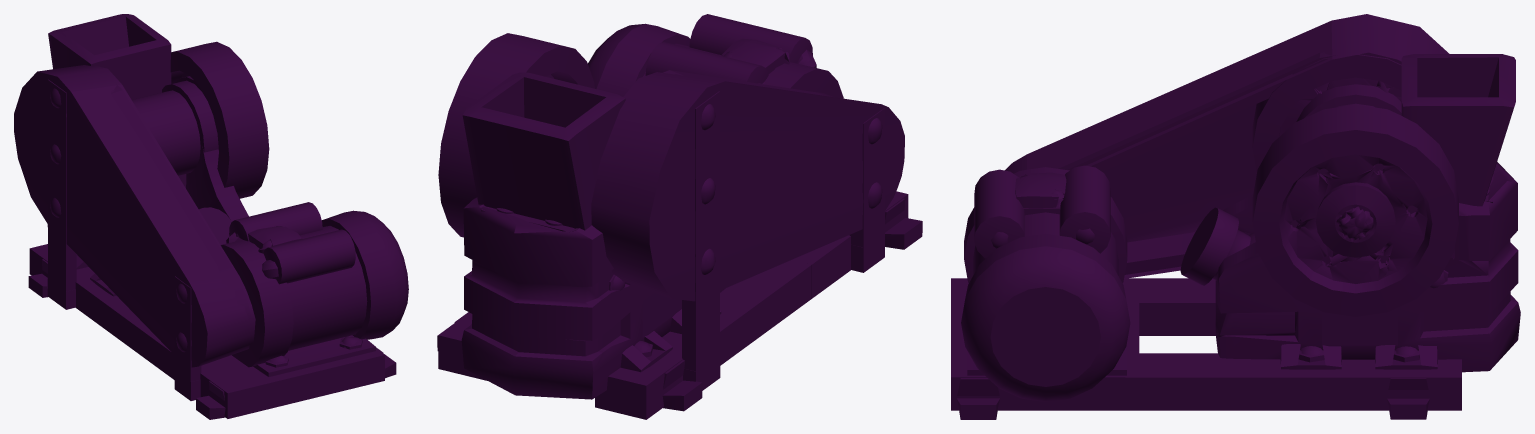
The model's file is Cage00.obj.
3 renders of one model, left to right at view 1: azimuth 30°, elevation 25°; view 2: azimuth 150°, elevation 25°; view 3: azimuth 270°, elevation 25°, orthographic. The views are drawn at different scales.
Parts seen in each view (by area): view 1: polySurface353; view 2: polySurface353; view 3: polySurface353.
Boxes of the visible parts, x1,y1,x2,y2 form: polySurface353: [14, 14, 408, 419]; polySurface353: [437, 14, 922, 419]; polySurface353: [951, 14, 1520, 419].
Size of the model in its own units: 6.06 by 6.3 by 11.07.
